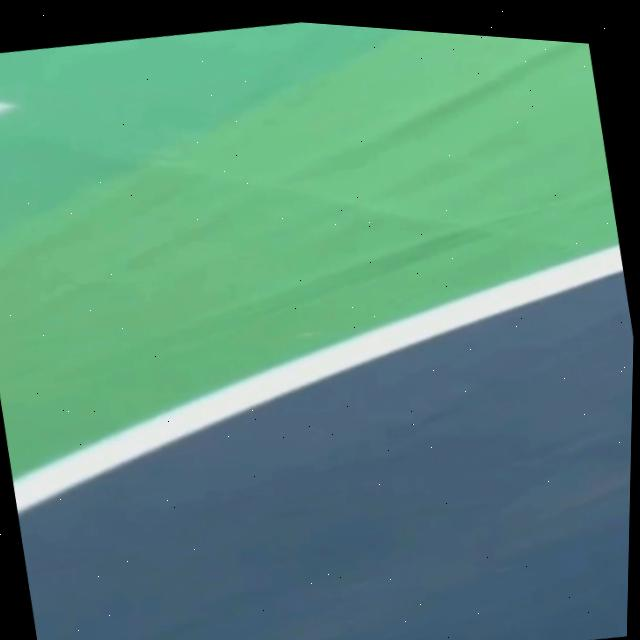right: (12, 245, 623, 513)
